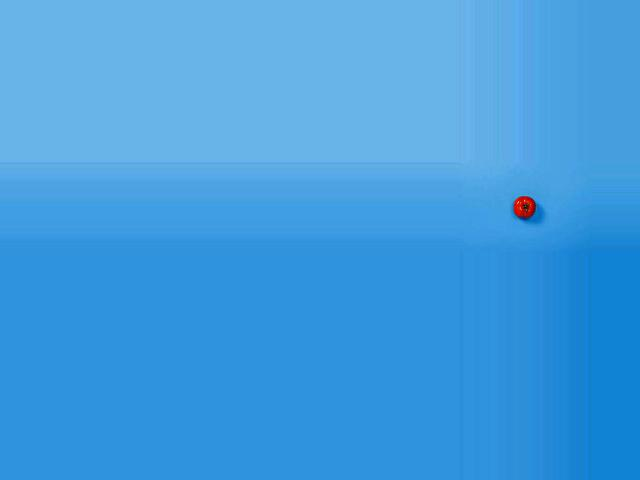tomato: (513, 196, 536, 218)
